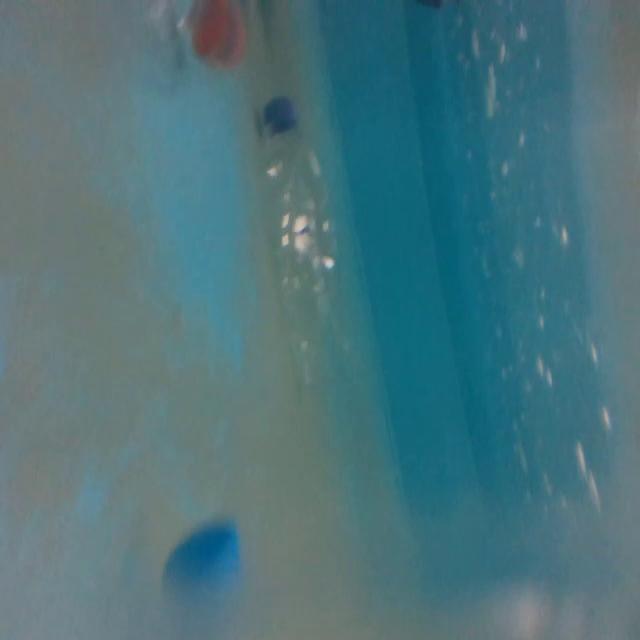plastic bottle: (253, 90, 367, 404)
